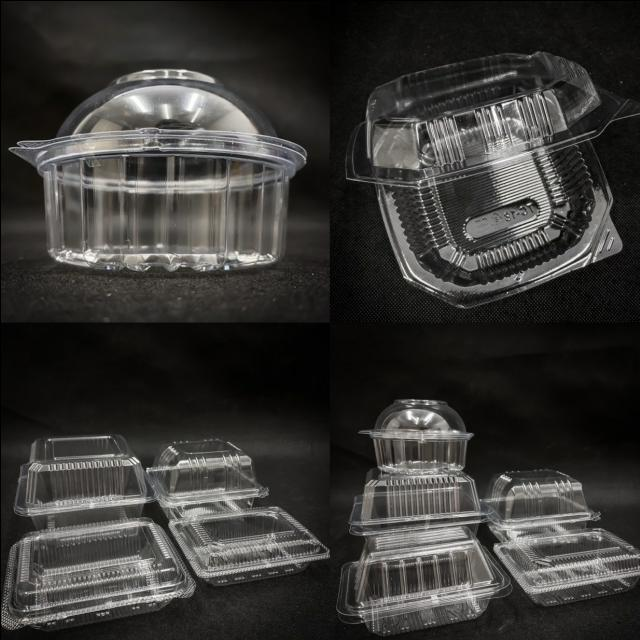plastik: (346, 52, 640, 306), (10, 69, 305, 270), (0, 516, 194, 629), (335, 525, 509, 635), (12, 434, 155, 529), (168, 506, 328, 583), (493, 528, 640, 605), (146, 438, 267, 519), (348, 468, 490, 534), (359, 398, 473, 473), (484, 468, 599, 541)
